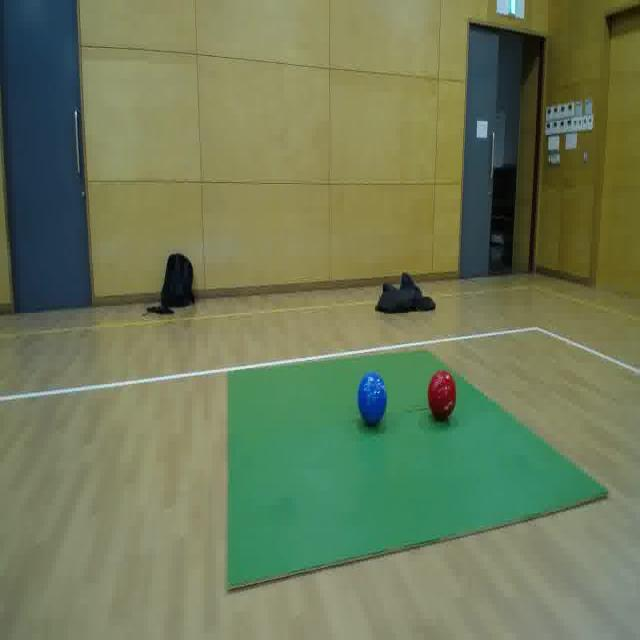blue_ball: (356, 369, 390, 425)
red_ball: (426, 361, 457, 426)
